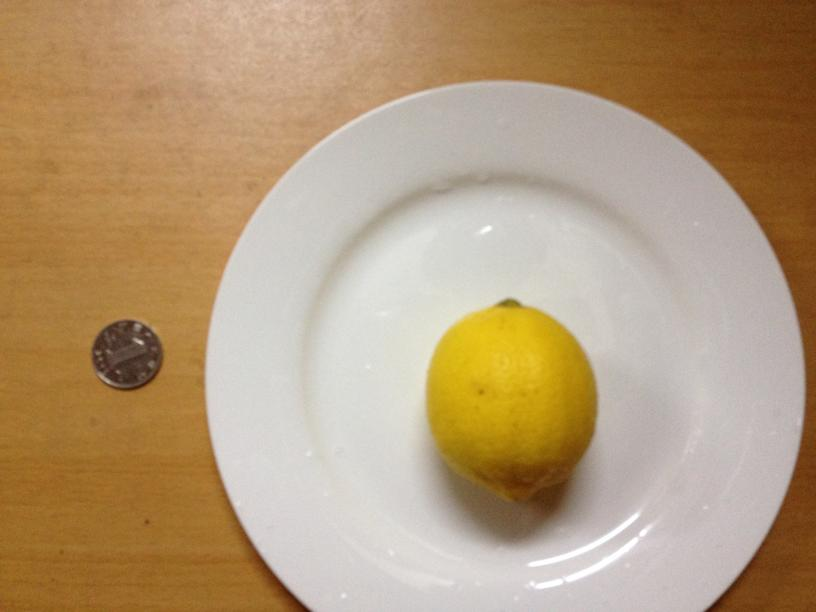coin: (91, 320, 161, 390)
lemon: (424, 296, 597, 500)
